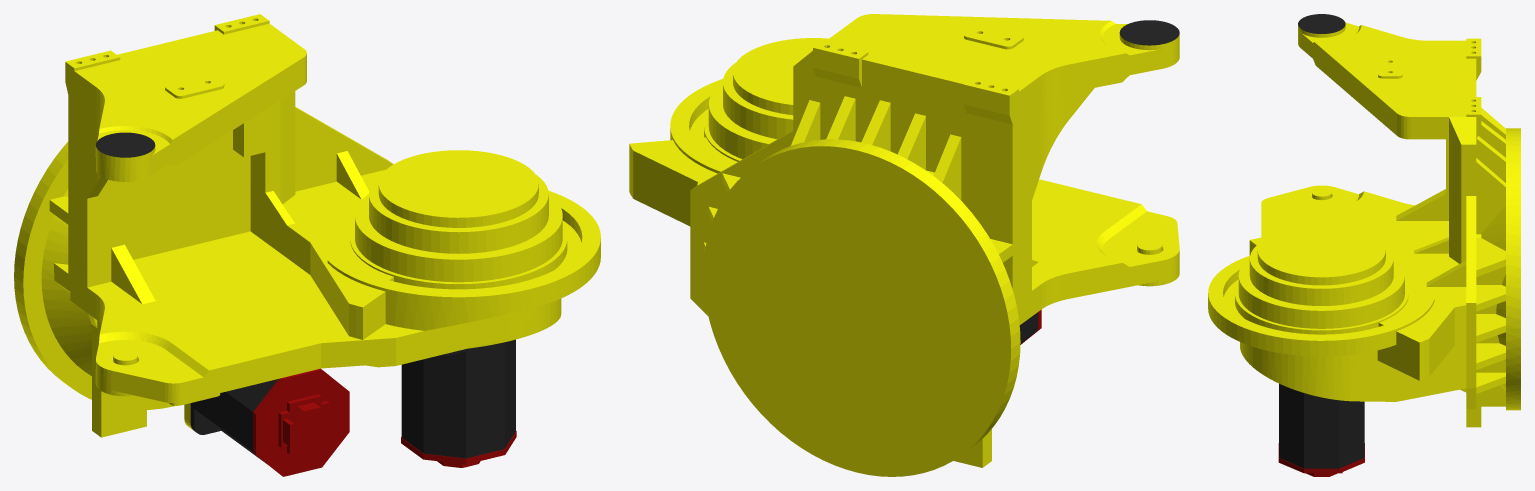
3 renders of one model, left to right at view 1: azimuth 30°, elevation 25°; view 2: azimuth 150°, elevation 25°; view 3: azimuth 270°, elevation 25°, orthographic. The views are drawn at different scales.
Visible parts, largest first — view 1: node; view 2: node; view 3: node.
Part boxes in pixels (box(x1,y1,x2,y2)): node: box(14, 14, 600, 476); node: box(629, 14, 1179, 476); node: box(1208, 14, 1520, 476).
Size of the model in its own units: 897 by 702 by 630.
